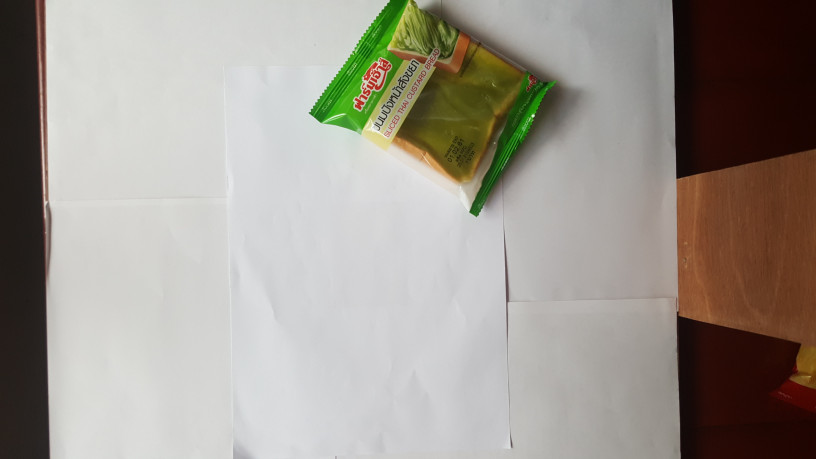farmhouse-bread-pandan: (302, 1, 565, 218)
